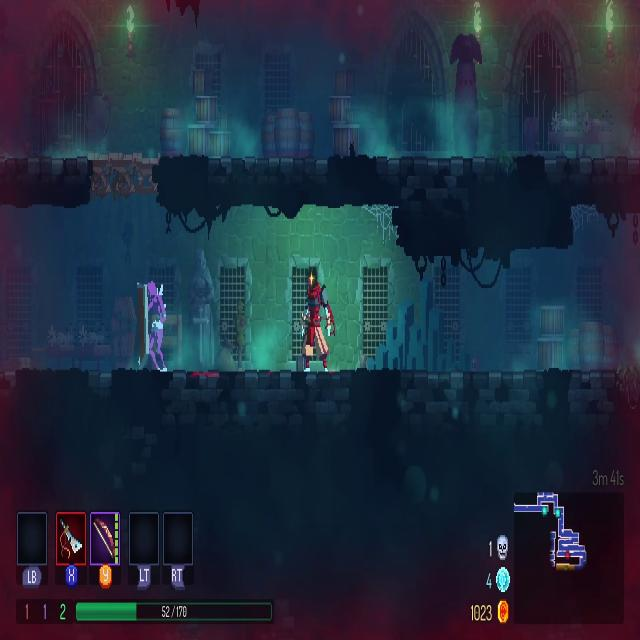agents: (302, 271, 338, 375)
enemy_purple_shield: (134, 278, 168, 372)
wood_floor: (88, 150, 167, 201)
